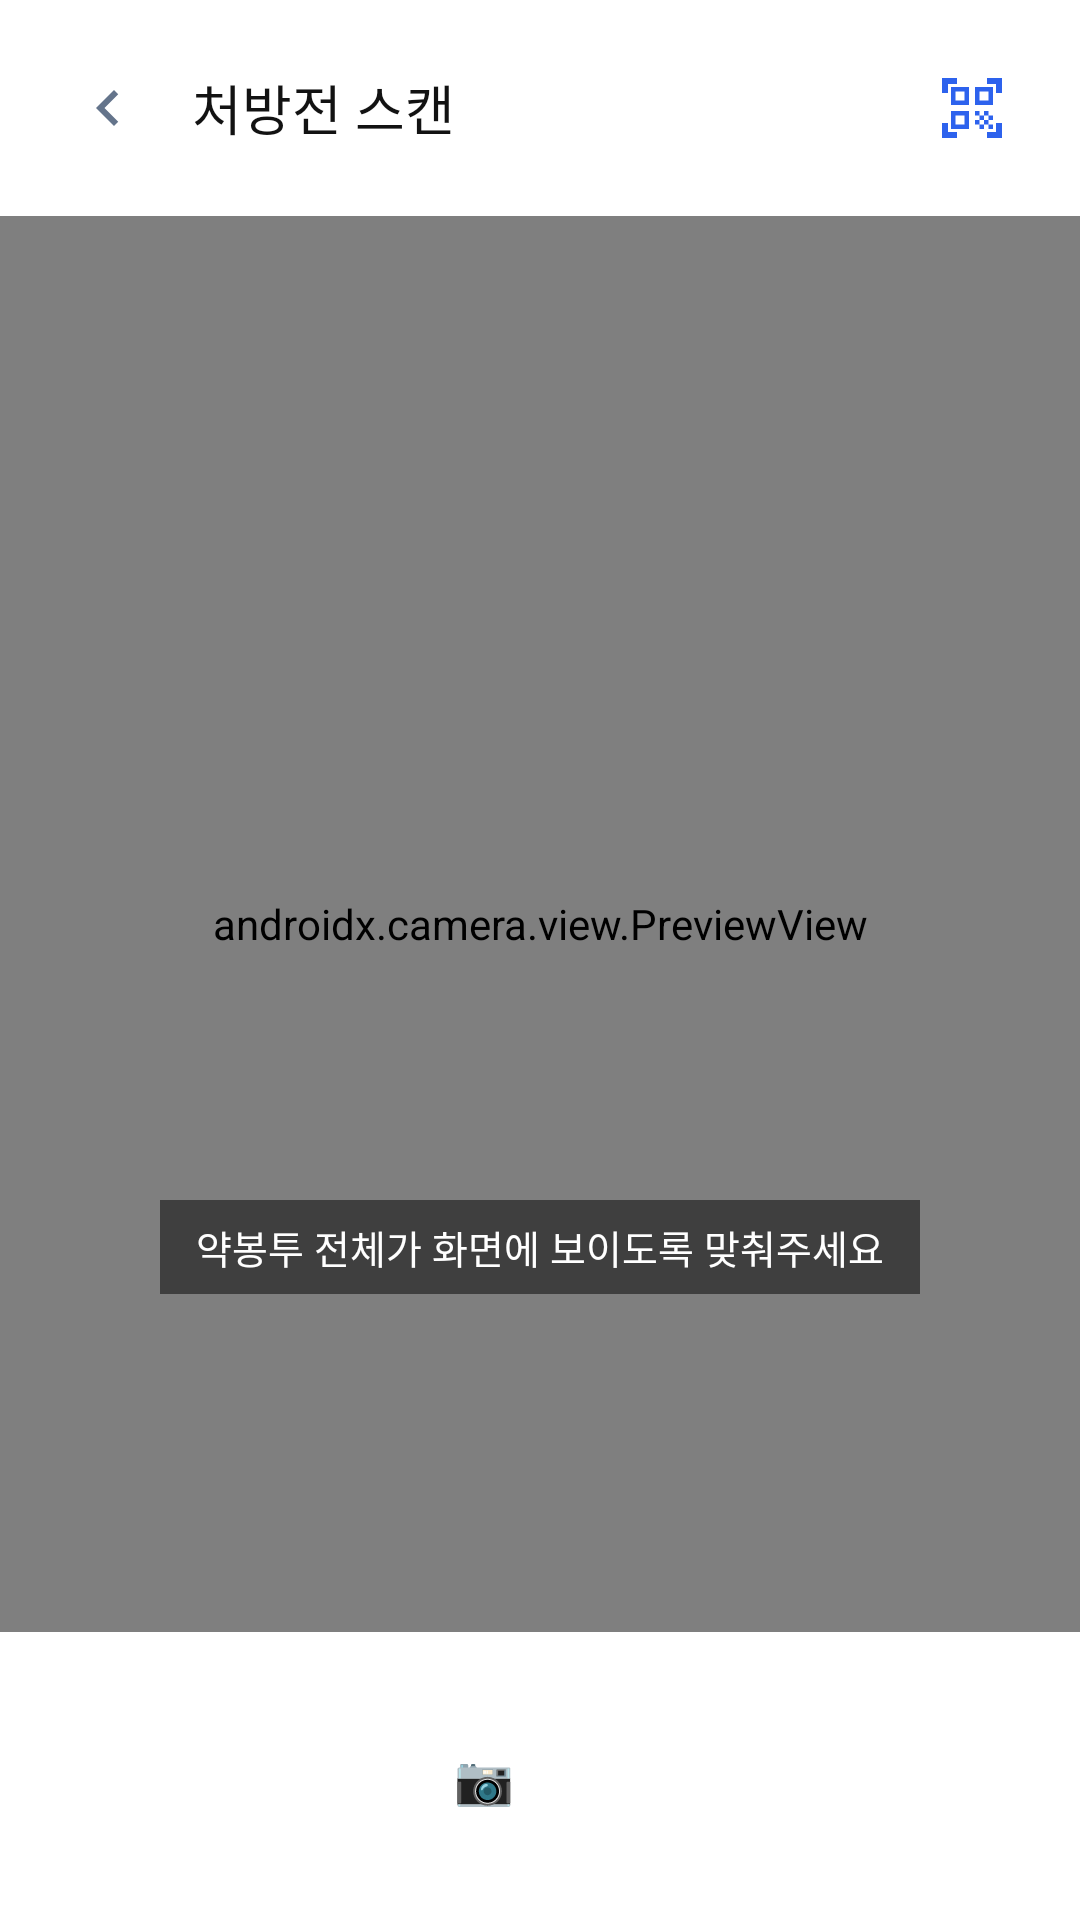

Icons on this 1080w x 1920h Android screen, each with the point to tap as point (x, y):
arrow left: point (107, 108)
